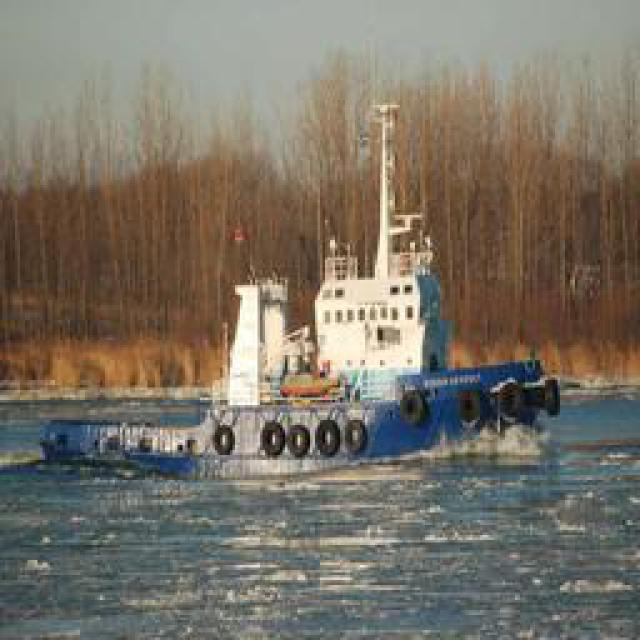Ship: (40, 154, 568, 469)
